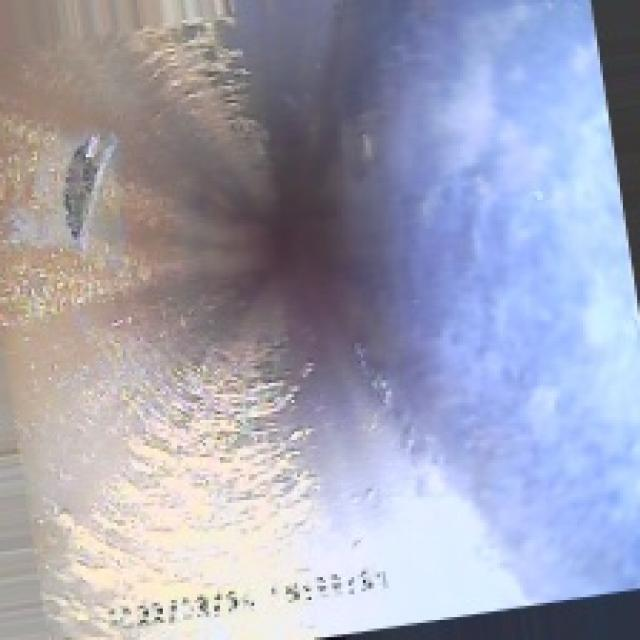pipe_surface_damage: (46, 129, 111, 240)
